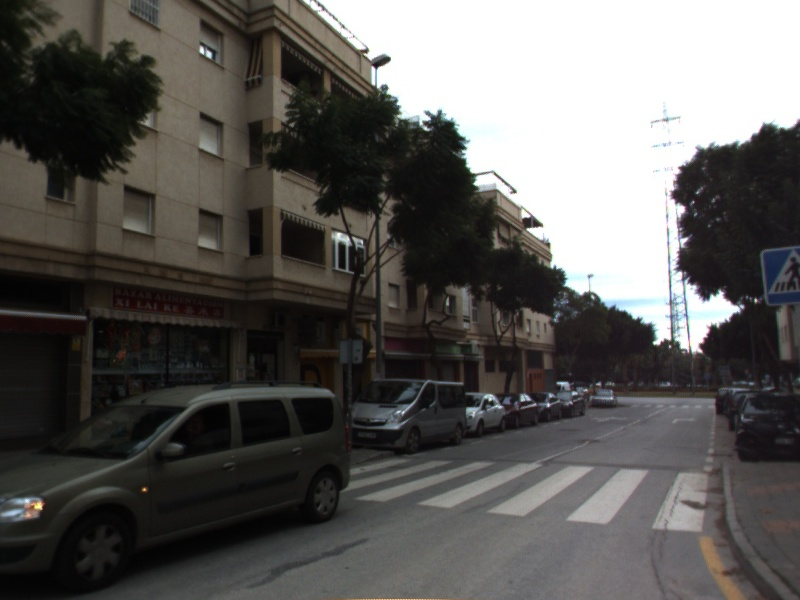RIGHT: (670, 415, 699, 425)
